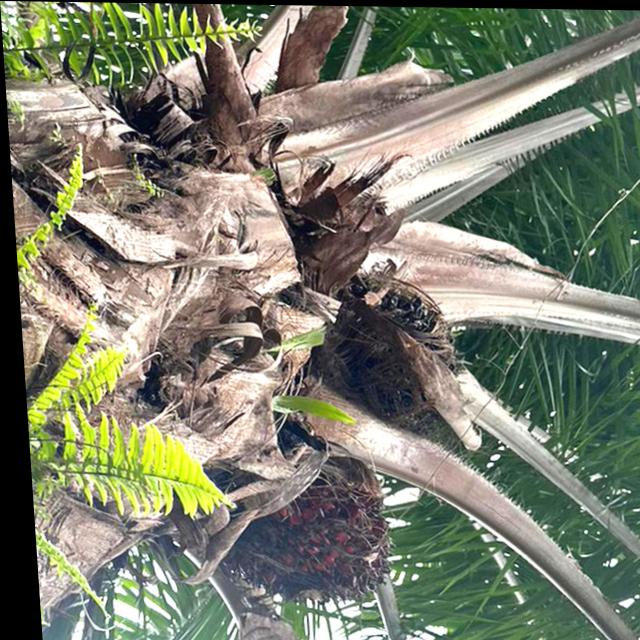unripe: (312, 269, 469, 430)
